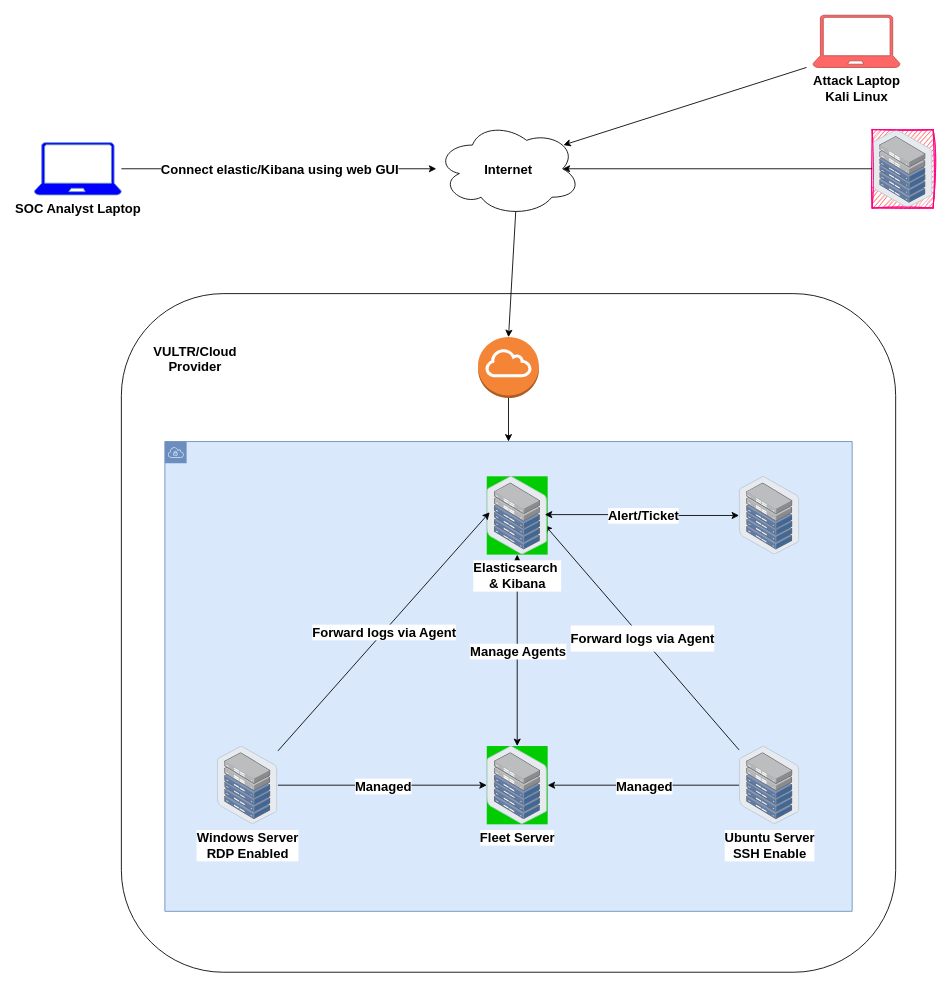
Image size: 947x987. Some labels were removed from this diagram. The box of each missing label's shape, as (x1, y1, x2, y2) in pixels:
C2 Server Mythic: (872, 129, 933, 207)
os Ticket Server: (739, 476, 800, 554)
VPC: (164, 441, 852, 911)
